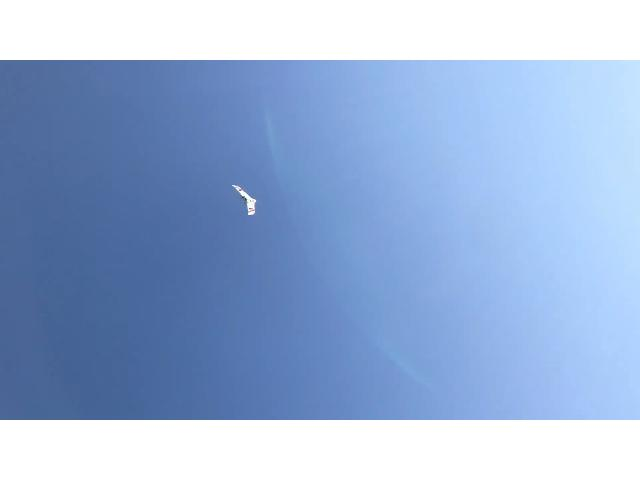Anti-Drone: (216, 176, 260, 222)
